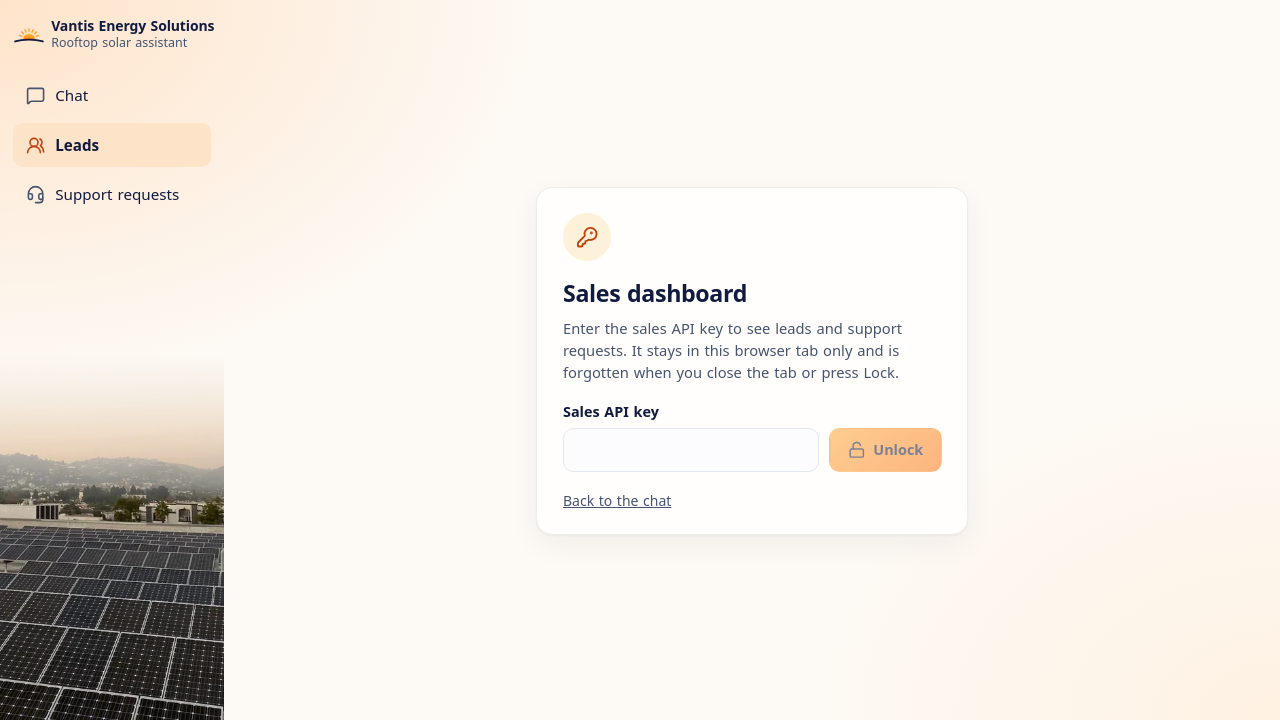
Test: unlock › asks for the key first; a wrong key (401) says so and nothing is kept
This screenshot has width=1280, height=720.
Expected: the heading "Sales dashboard" is shown, x1=563 y1=277 x2=747 y2=309
Expected: the button "Unlock" is disabled, x1=829 y1=428 x2=942 y2=472
Type "wrong-key" into the password field labelled "Sales API key".
click(691, 450); type("wrong-key")  # box x1=563 y1=428 x2=820 y2=472
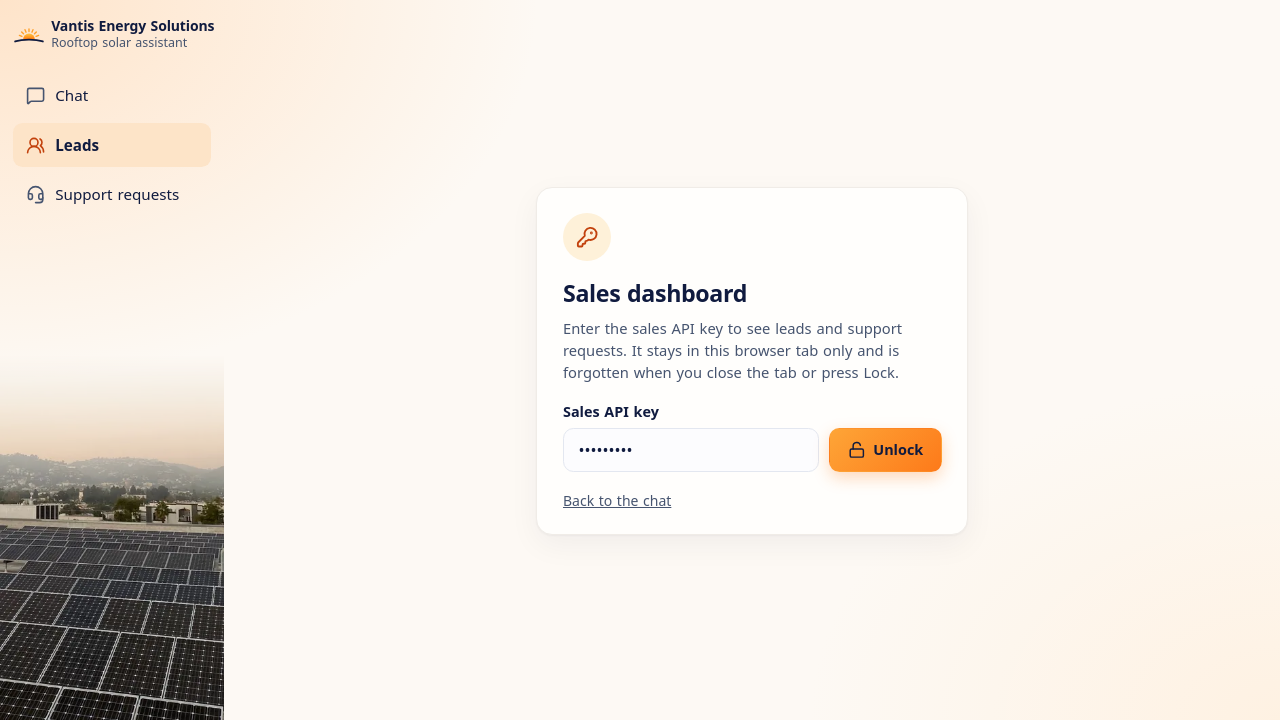
Click the button "Unlock".
click(885, 450)  # box x1=829 y1=428 x2=942 y2=472
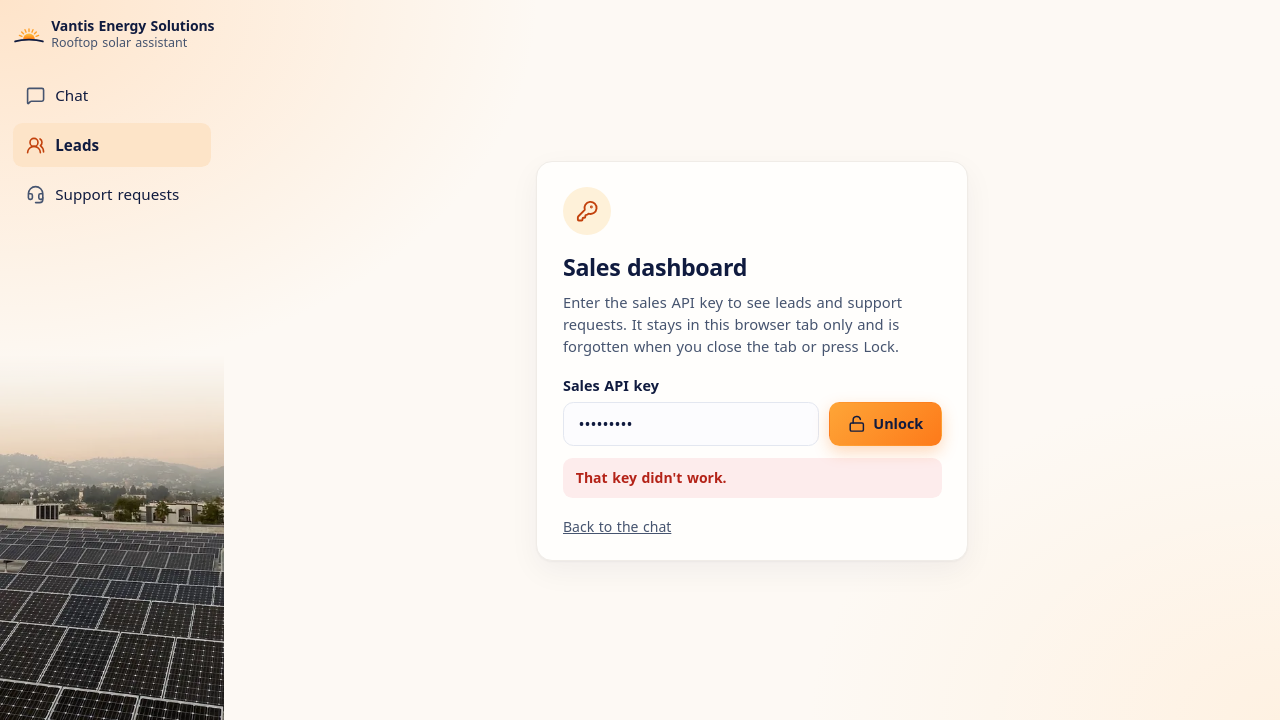
Expected: the message reads "That key didn't work.", x1=576 y1=468 x2=727 y2=487
